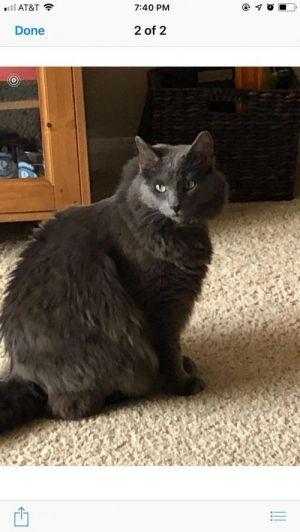rblue: (112, 110, 242, 256)
